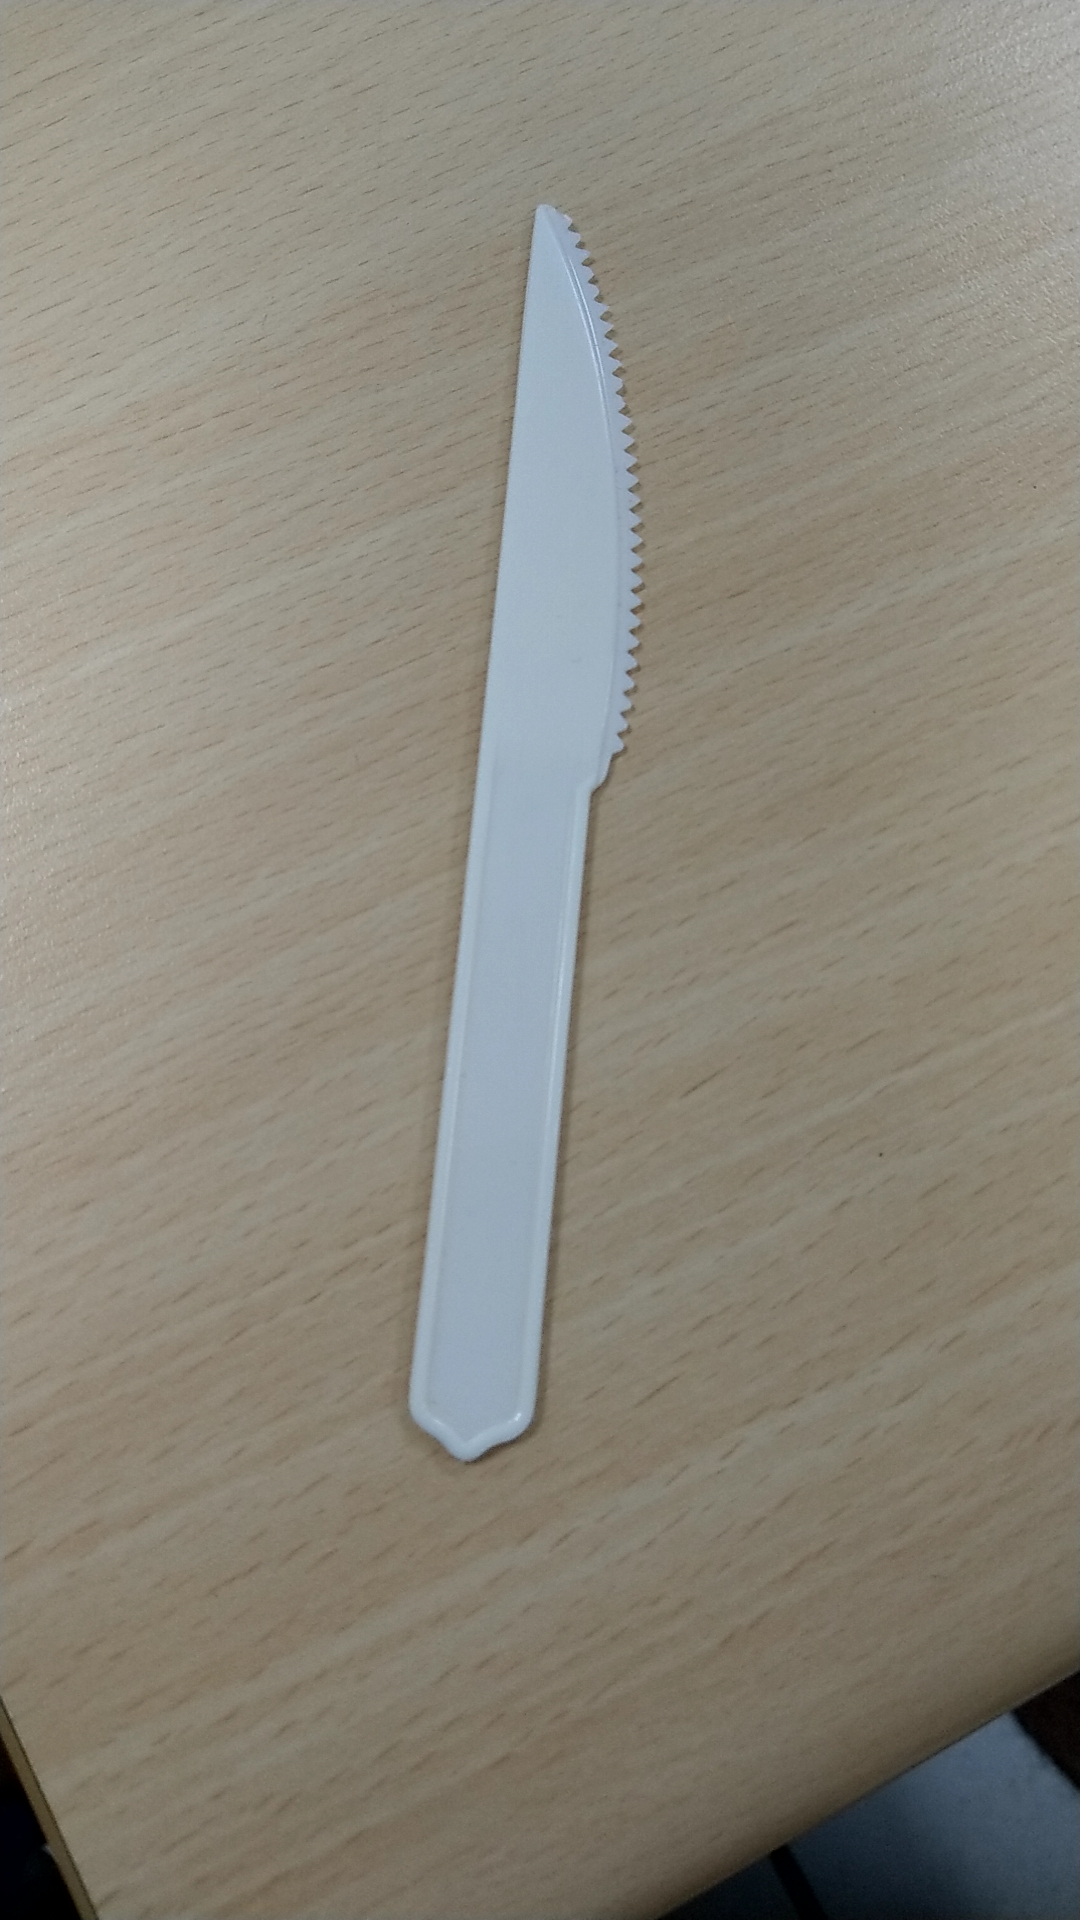knife: (373, 150, 684, 1480)
